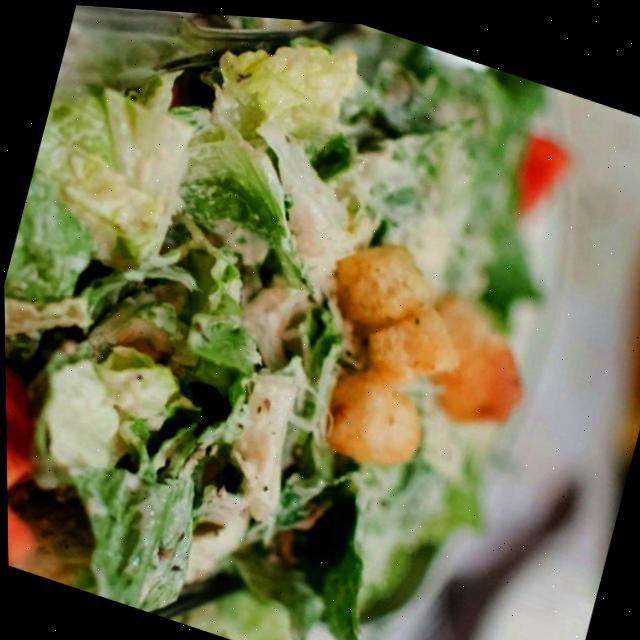蔬菜料理: (0, 0, 635, 640)
